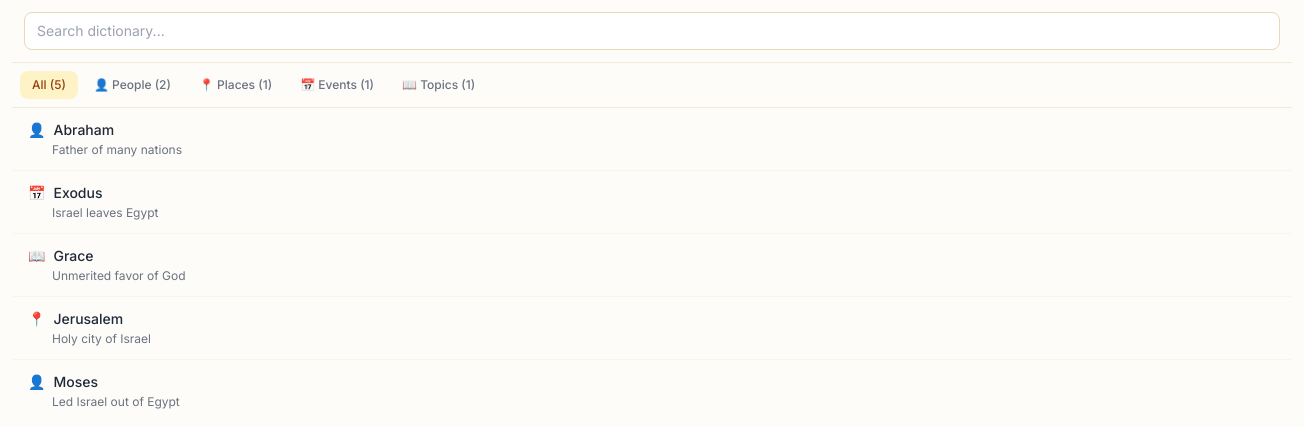
Test: DictionaryBrowser › search filters entries
Check: the text "Abraham" is shown, box [54, 120, 114, 140]
In the field with placeholder "Search dictionary...": (652, 31) [24, 12, 1280, 50], type "moses"
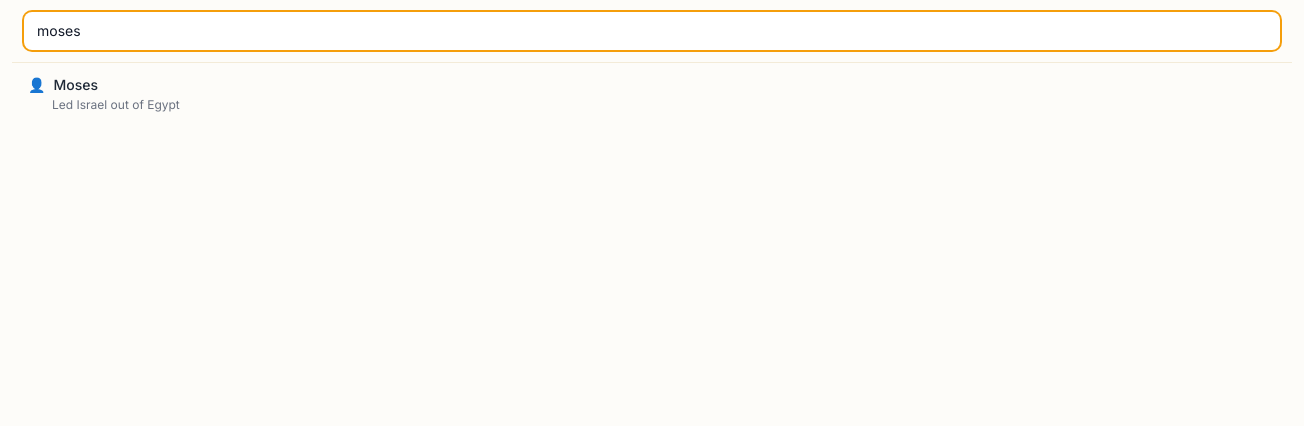
Check: the text "Moses" is shown, box [54, 75, 98, 95]
Check: the button "Abraham" is gone
